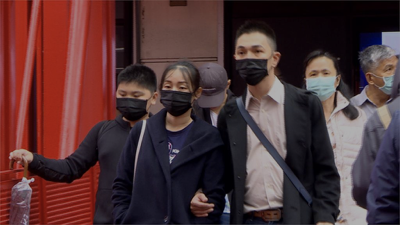with_mask: (235, 43, 272, 87), (160, 79, 193, 118), (116, 88, 150, 122), (304, 68, 336, 102), (379, 61, 399, 96)
